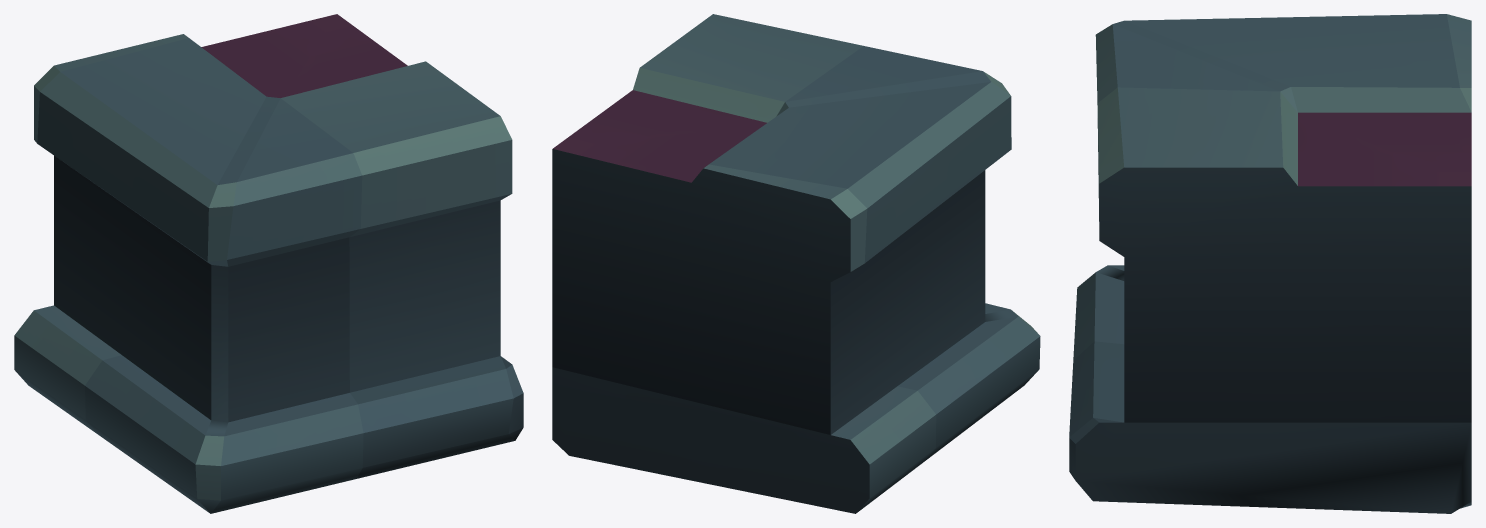
The model's file is wall_small_corner_convex.fbx.
3 renders of one model, left to right at view 1: azimuth 30°, elevation 25°; view 2: azimuth 150°, elevation 25°; view 3: azimuth 270°, elevation 25°, orthographic. The views are drawn at different scales.
Visible parts, largest first — view 1: wall_small_corner_convex; view 2: wall_small_corner_convex; view 3: wall_small_corner_convex.
Boxes of the visible parts, bbox=[...] form: wall_small_corner_convex: bbox=[14, 14, 523, 513]; wall_small_corner_convex: bbox=[552, 14, 1040, 513]; wall_small_corner_convex: bbox=[1069, 14, 1471, 513].
Bounding box in the file's own units: 114 × 111 × 116.
